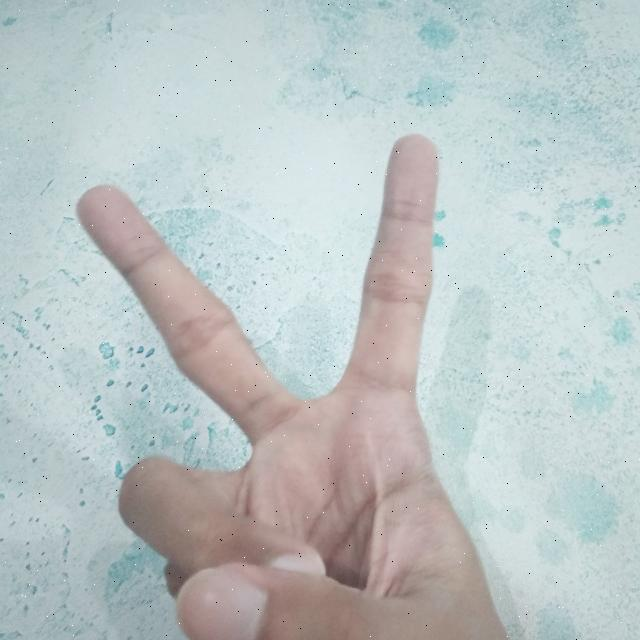V: (69, 129, 510, 640)
